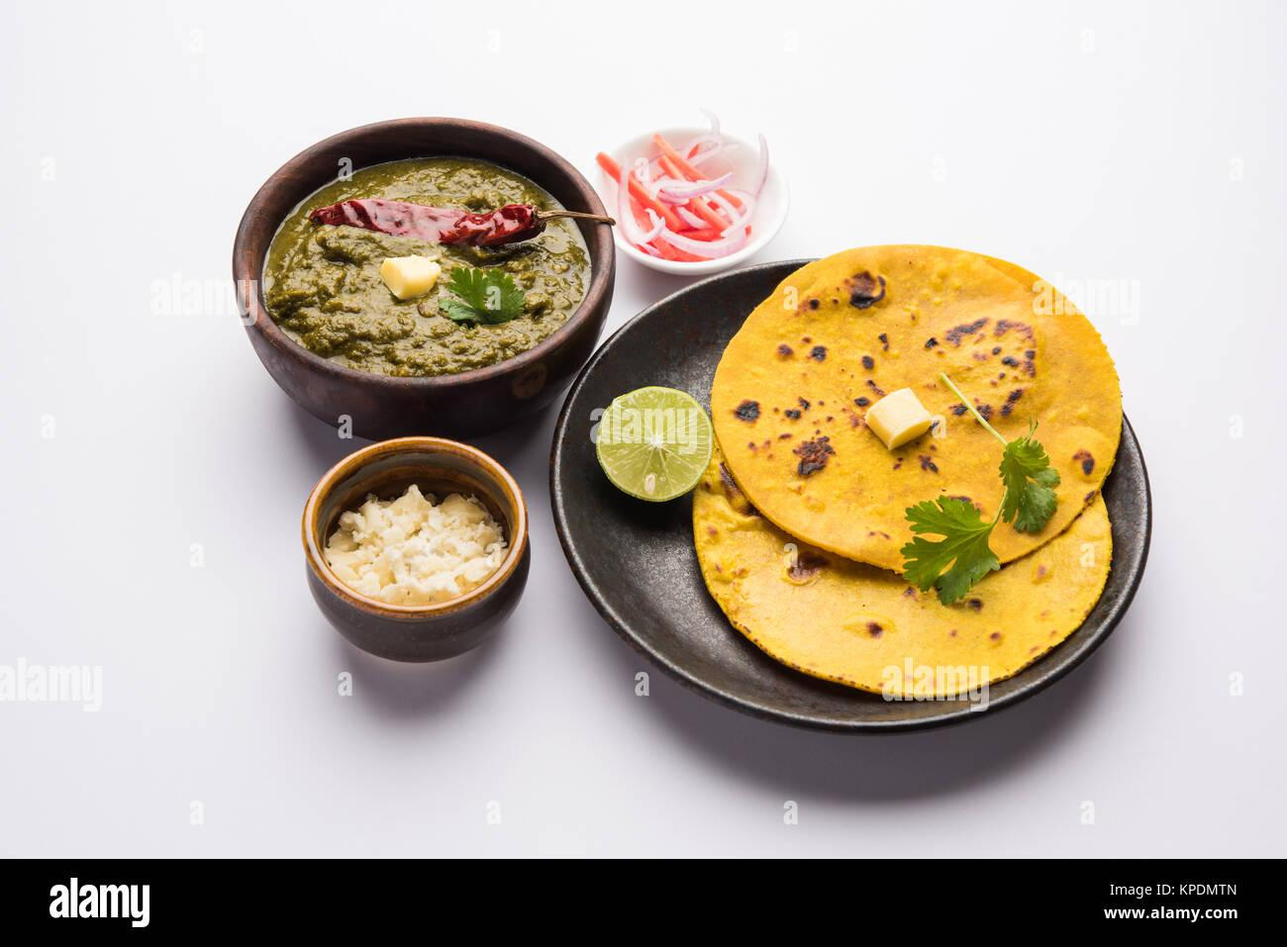saag: (261, 150, 595, 375)
